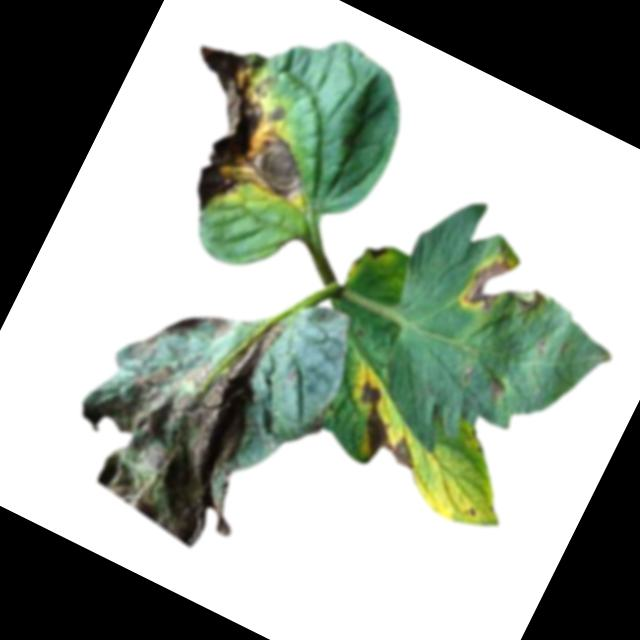Early_blight: (44, 257, 325, 561), (134, 26, 351, 249), (331, 379, 440, 483), (457, 246, 555, 339), (483, 369, 514, 401), (307, 407, 330, 437), (363, 240, 392, 263)
